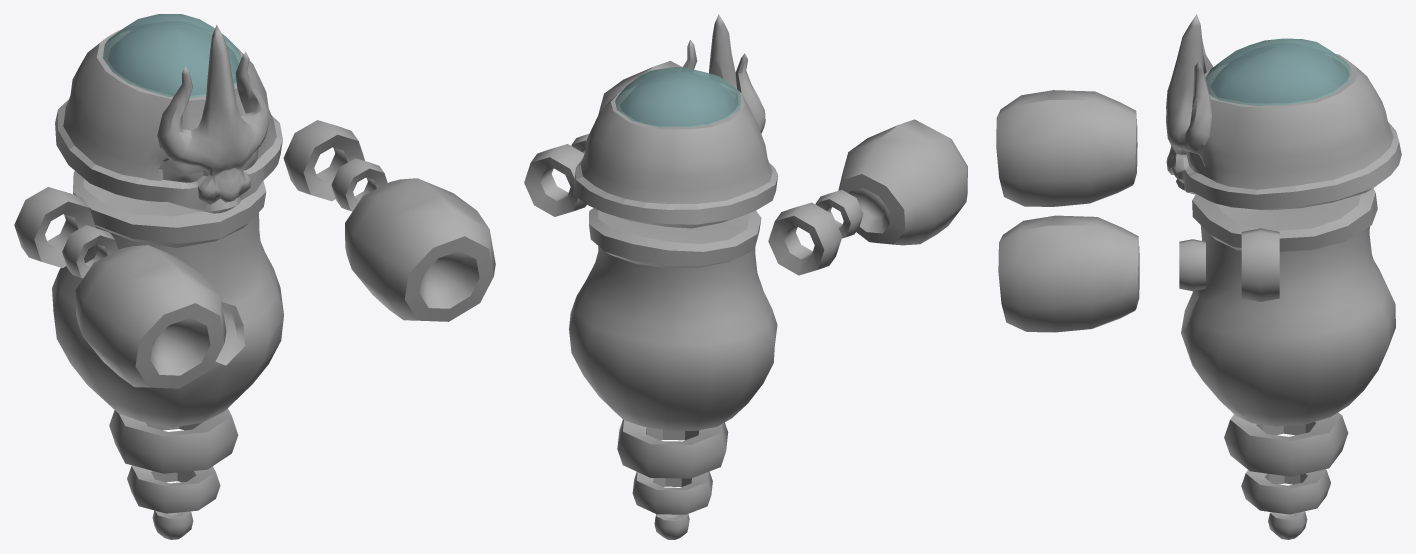
File: WaterElementalUnriggedClean 1.fbx
3 renders of one model, left to right at view 1: azimuth 30°, elevation 25°; view 2: azimuth 150°, elevation 25°; view 3: azimuth 270°, elevation 25°, orthographic. The views are drawn at different scales.
Parts seen in each view (by area): view 1: Water_Elemental; view 2: Water_Elemental; view 3: Water_Elemental.
Part boxes in pixels (box(x1,y1,x2,y2)): Water_Elemental: box(14, 14, 495, 539); Water_Elemental: box(524, 14, 967, 539); Water_Elemental: box(996, 14, 1401, 539).
Size of the model in its own units: 40.8 by 56.09 by 39.46.
